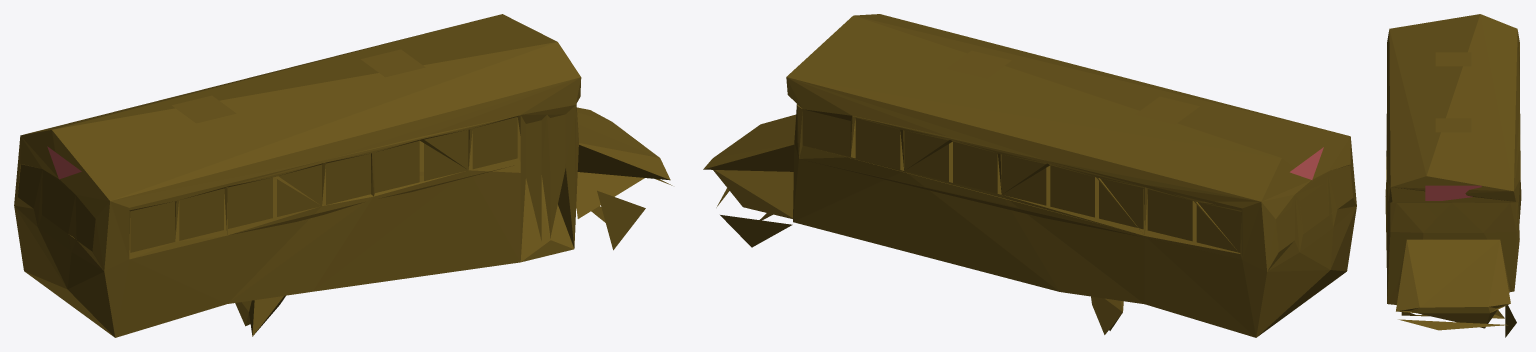
Rendered from civ-schoolbus.lod2.glb.
3 renders of one model, left to right at view 1: azimuth 30°, elevation 25°; view 2: azimuth 150°, elevation 25°; view 3: azimuth 270°, elevation 25°, orthographic. The views are drawn at different scales.
Visible parts, largest first — view 1: school_bus_schoolbus_tex_0; view 2: school_bus_schoolbus_tex_0; view 3: school_bus_schoolbus_tex_0.
Boxes of the visible parts, x1,y1,x2,y2 form: school_bus_schoolbus_tex_0: (14,14,672,337); school_bus_schoolbus_tex_0: (703,14,1356,337); school_bus_schoolbus_tex_0: (1385,14,1521,337).
Size of the model in its own units: 7.8 by 2.6 by 2.19.
